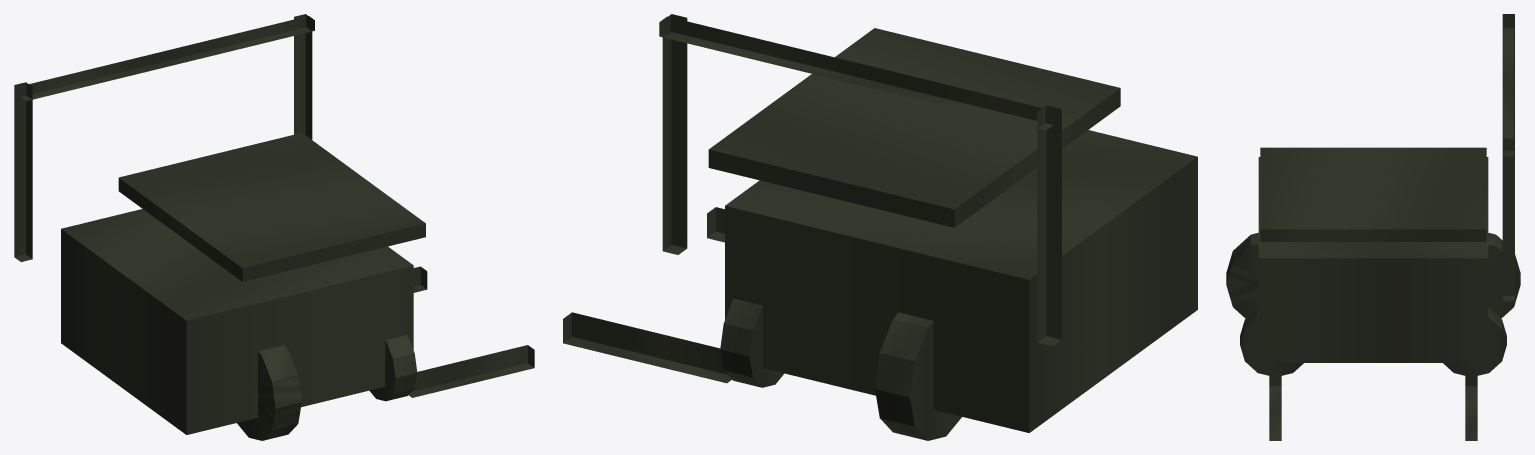
File: prop_forklift_parked_a.glb
3 views of the same model, side by side, from view 1: azimuth 30°, elevation 25°; view 2: azimuth 150°, elevation 25°; view 3: azimuth 270°, elevation 25° (orthographic). The views are drawn at different scales.
Parts seen in each view (by area): view 1: prop_forklift_parked_a; view 2: prop_forklift_parked_a; view 3: prop_forklift_parked_a.
Part boxes in pixels (x1,y1,x2,y2): prop_forklift_parked_a: [14, 14, 534, 440]; prop_forklift_parked_a: [563, 14, 1197, 440]; prop_forklift_parked_a: [1226, 14, 1520, 440].
Size of the model in its own units: 2.65 by 1.85 by 1.92.
Materials: 1 (1 with a texture image).
